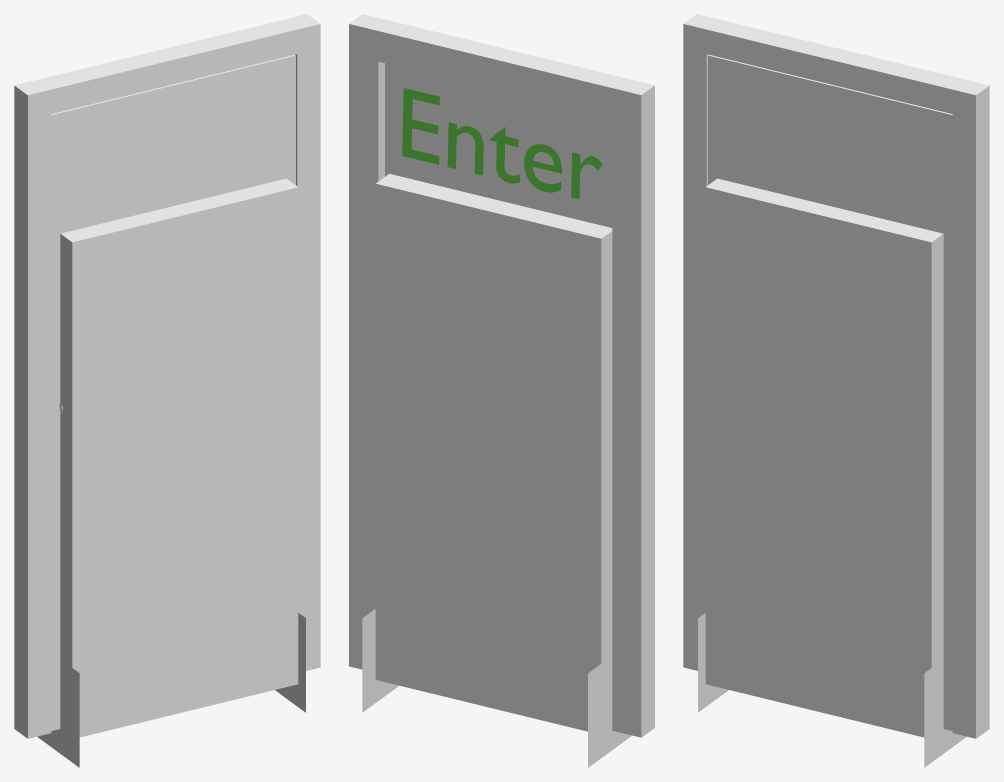
File: door.glb
3 renders of one model, left to right at view 1: azimuth 30°, elevation 25°; view 2: azimuth 150°, elevation 25°; view 3: azimuth 330°, elevation 25°, orthographic.
Parts seen in each view (by area): view 1: CTRL_Hole, DoorFrame, Door, CTRL_Baseboard; view 2: CTRL_Hole, DoorFrame, Door, Text, CTRL_Baseboard; view 3: CTRL_Hole, DoorFrame, Door, CTRL_Baseboard.
Boxes of the visible parts, <box> form: CTRL_Hole: <box>59,178,298,738</box>; DoorFrame: <box>14,14,320,738</box>; Door: <box>51,54,295,730</box>; CTRL_Baseboard: <box>37,613,305,767</box>; CTRL_Hole: <box>375,173,612,731</box>; DoorFrame: <box>349,14,654,737</box>; Door: <box>385,63,612,227</box>; Text: <box>402,88,602,198</box>; CTRL_Baseboard: <box>362,609,631,767</box>; CTRL_Hole: <box>705,178,944,738</box>; DoorFrame: <box>683,14,989,738</box>; Door: <box>708,54,952,730</box>; CTRL_Baseboard: <box>698,613,966,767</box>.
Size of the model in its own units: 1.29 by 2.82 by 0.4.
